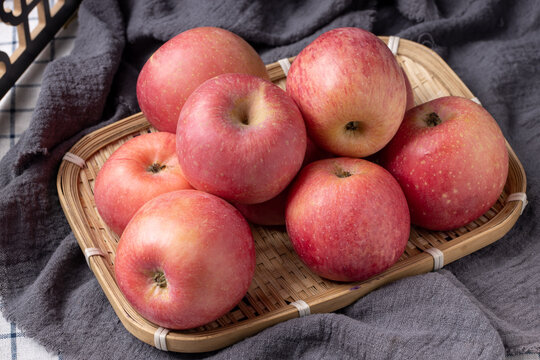apple: (114, 190, 258, 329), (384, 95, 508, 235), (176, 71, 306, 204), (286, 28, 411, 157), (287, 156, 413, 283), (96, 130, 205, 238)
